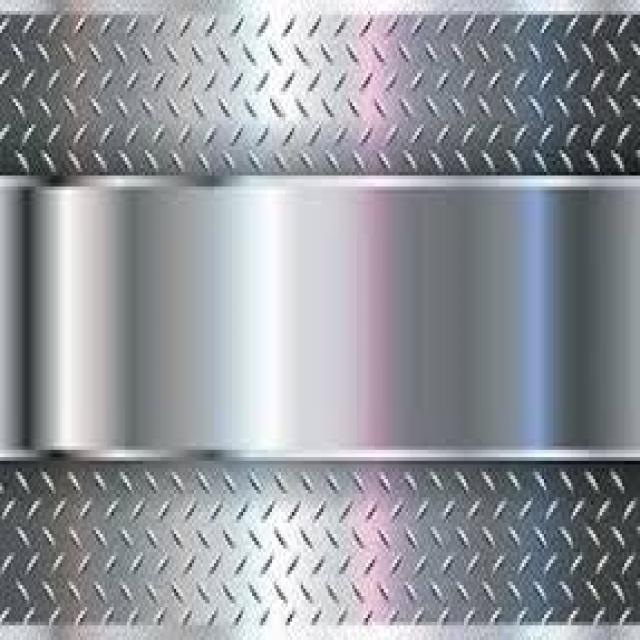Dry: (0, 176, 640, 453)
